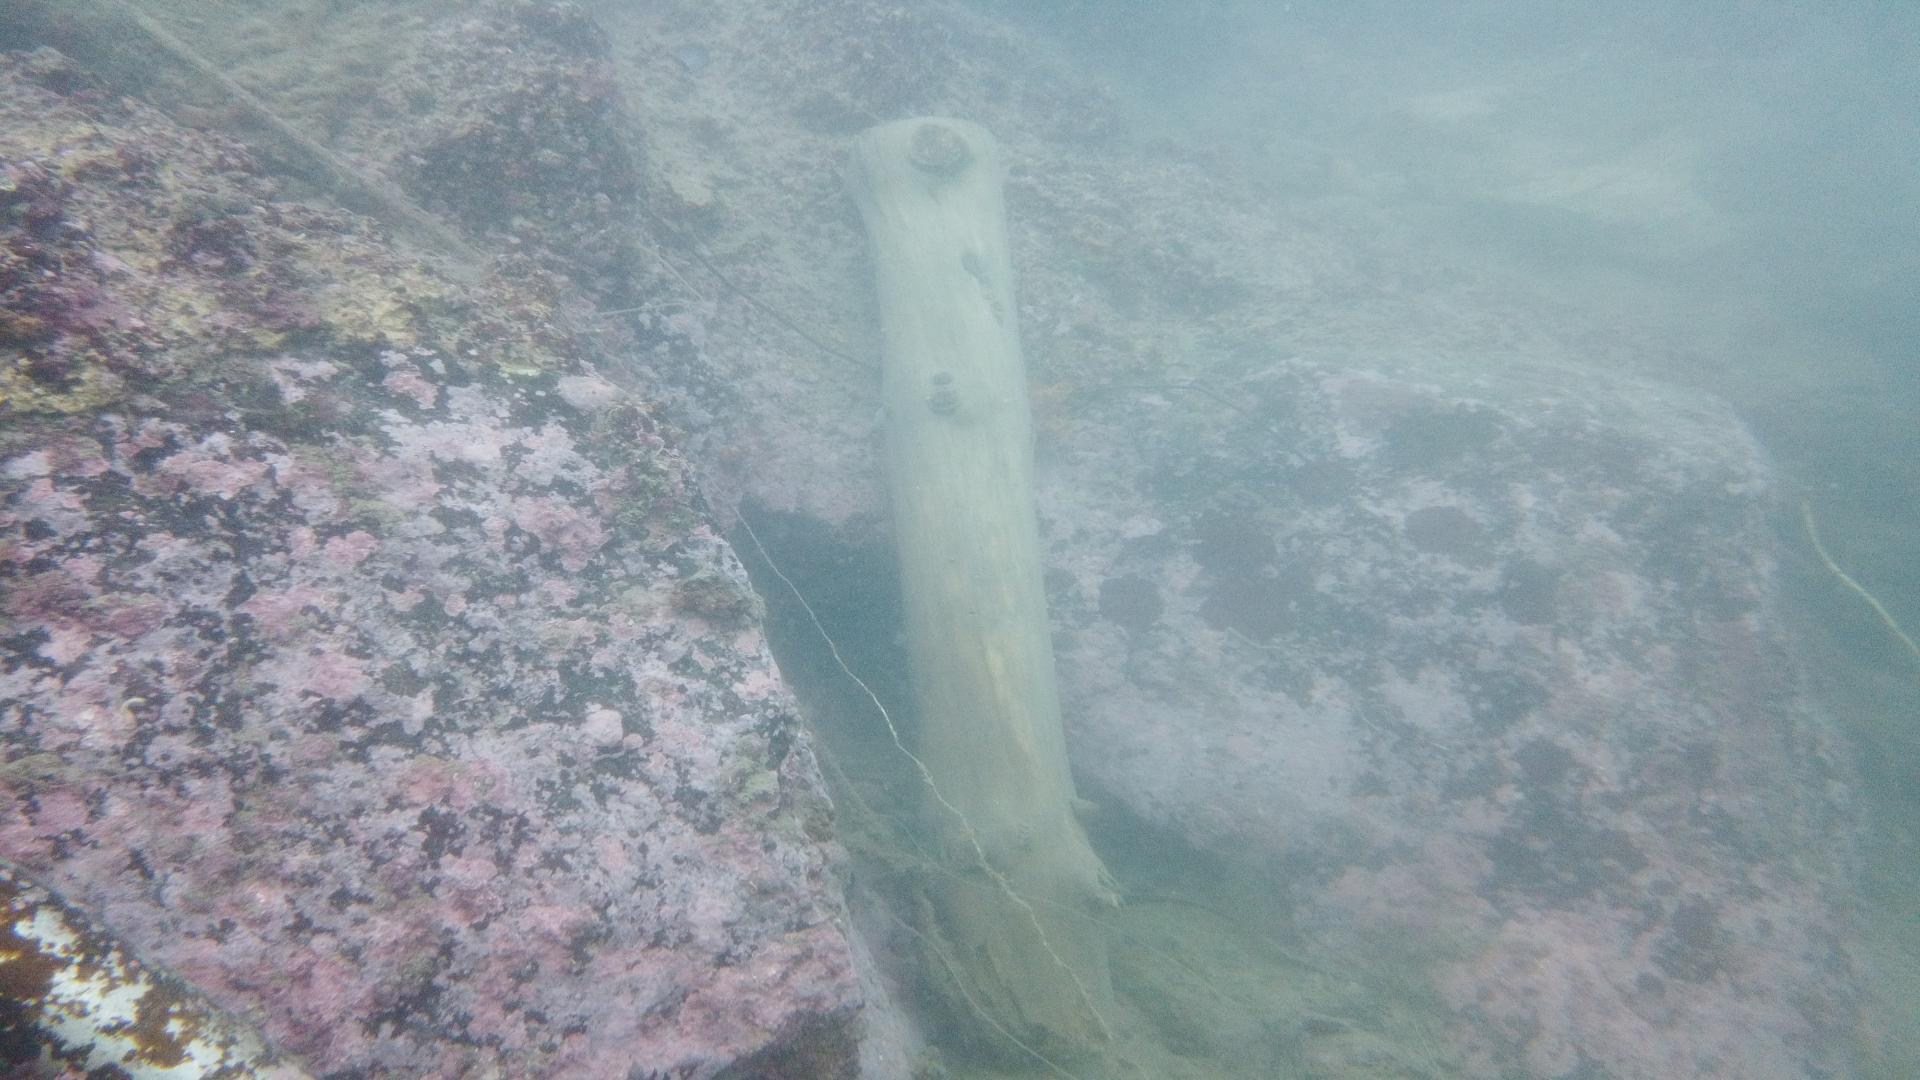rope: (129, 12, 480, 261)
wood: (825, 111, 1125, 1080)
